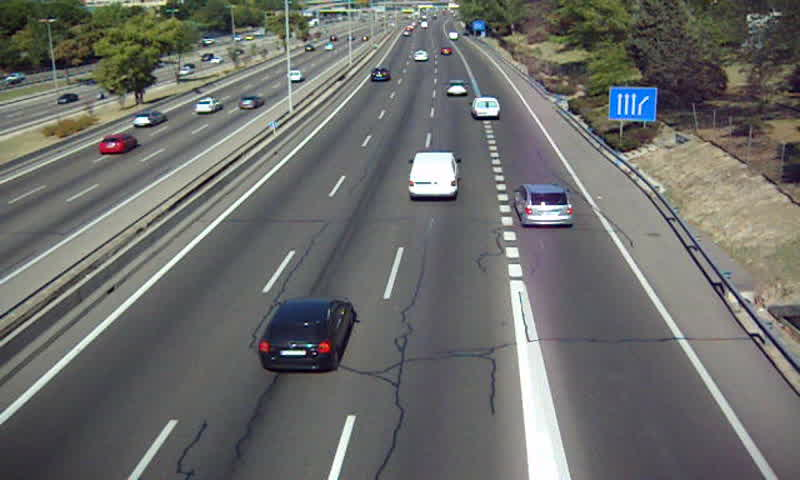car: (258, 298, 354, 373), (514, 185, 572, 228), (445, 80, 470, 98), (370, 67, 390, 83), (411, 48, 430, 61)
van: (409, 152, 457, 199), (470, 97, 500, 119)
